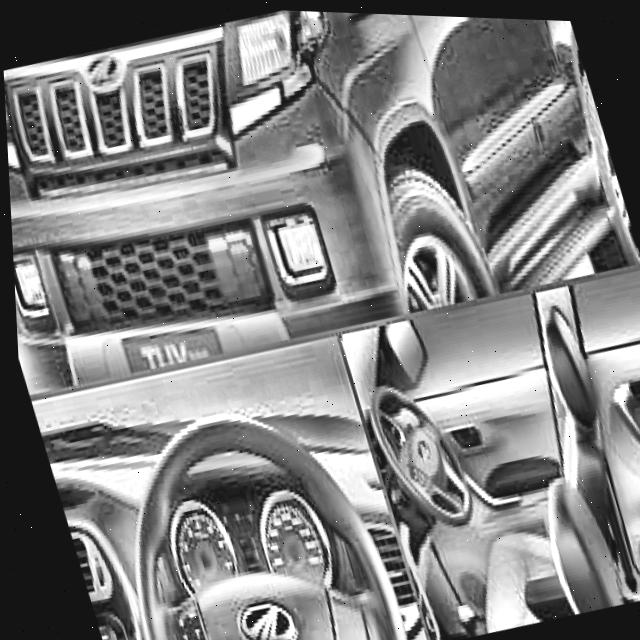light_vehicle: (0, 0, 640, 412)
